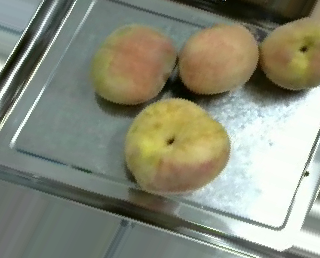Peach: (124, 99, 230, 194), (90, 24, 178, 105), (178, 22, 257, 93), (262, 15, 320, 90)
